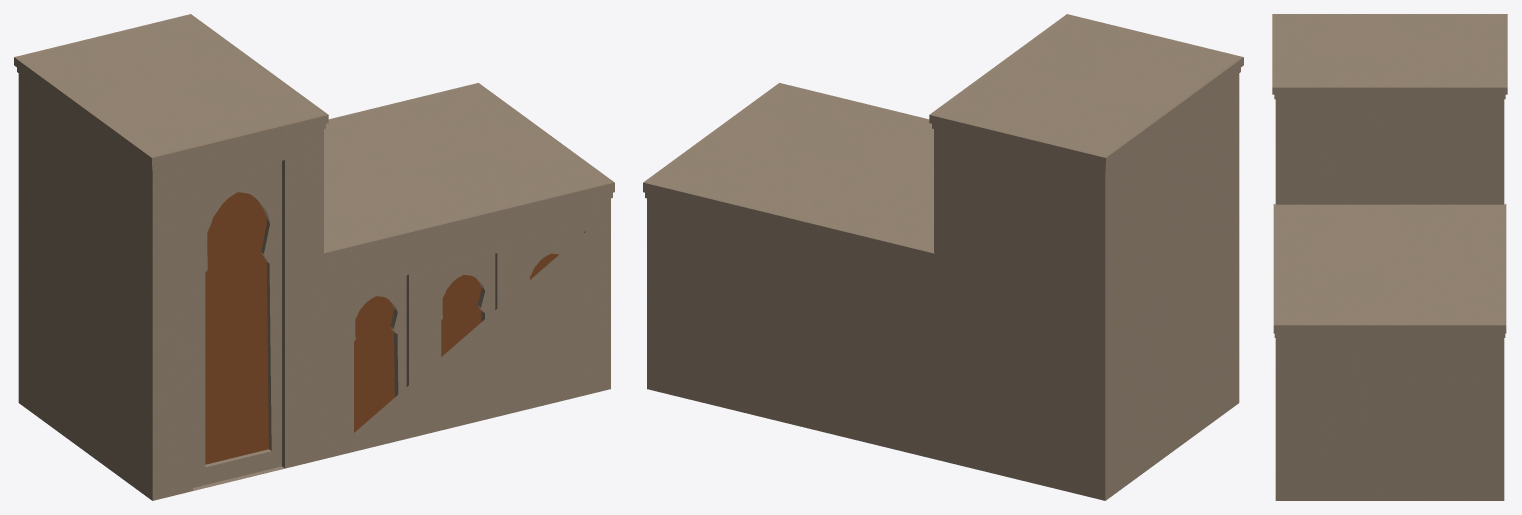
File: HOUSE FOR ENV 2.fbx
3 views of the same model, side by side, from view 1: azimuth 30°, elevation 25°; view 2: azimuth 150°, elevation 25°; view 3: azimuth 270°, elevation 25° (orthographic). The views are drawn at different scales.
Visible parts, largest first — view 1: polySurface4; view 2: polySurface4; view 3: polySurface4.
Part boxes in pixels (x1=…): polySurface4: x1=14, y1=14, x2=614, y2=500; polySurface4: x1=643, y1=14, x2=1243, y2=500; polySurface4: x1=1272, y1=14, x2=1507, y2=500.
Bounding box in the file's own units: 13.89 × 9.87 × 7.15.
Materials: 3 (3 with a texture image).
